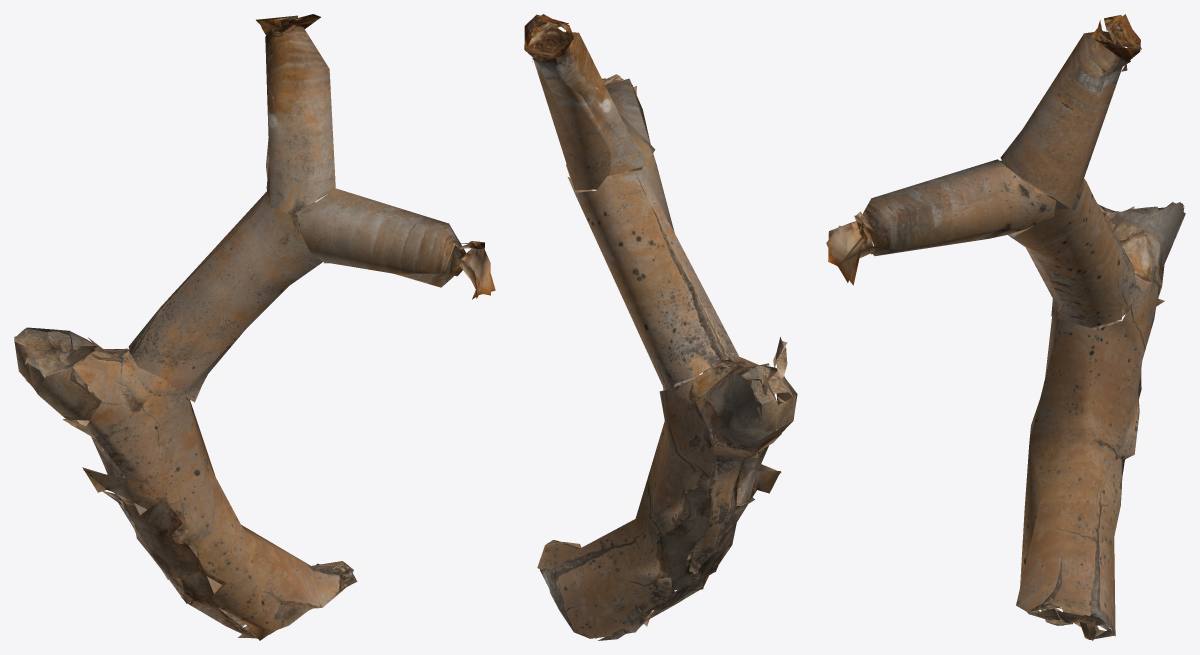
Rendered from dead_quiver_branch_01.glb.
3 renders of one model, left to right at view 1: azimuth 30°, elevation 25°; view 2: azimuth 150°, elevation 25°; view 3: azimuth 270°, elevation 25°, orthographic. The views are drawn at different scales.
Visible parts, largest first — view 1: dead_quiver_branch_01; view 2: dead_quiver_branch_01; view 3: dead_quiver_branch_01.
Boxes of the visible parts, x1,y1,x2,y2 form: dead_quiver_branch_01: (14, 14, 495, 640); dead_quiver_branch_01: (524, 14, 797, 640); dead_quiver_branch_01: (826, 14, 1185, 640).
Bounding box in the file's own units: 0.2529 × 0.4339 × 0.2246.
Materials: 1 (1 with a texture image).
